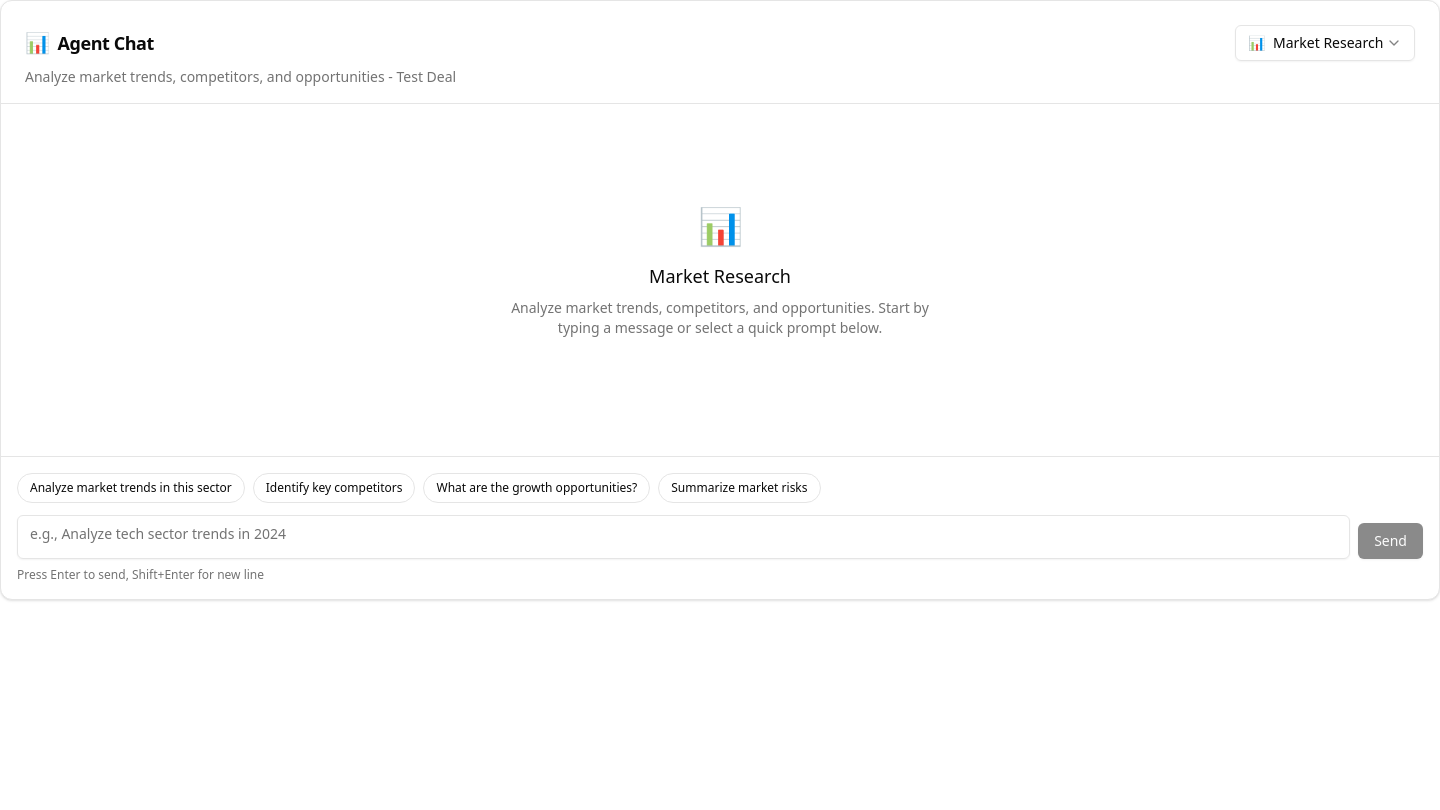
AgentChat › changes quick prompts when agent type changes
// Open agent type selector
Click the dropdown.
click(1325, 43)  # box [1235,25,1415,61]
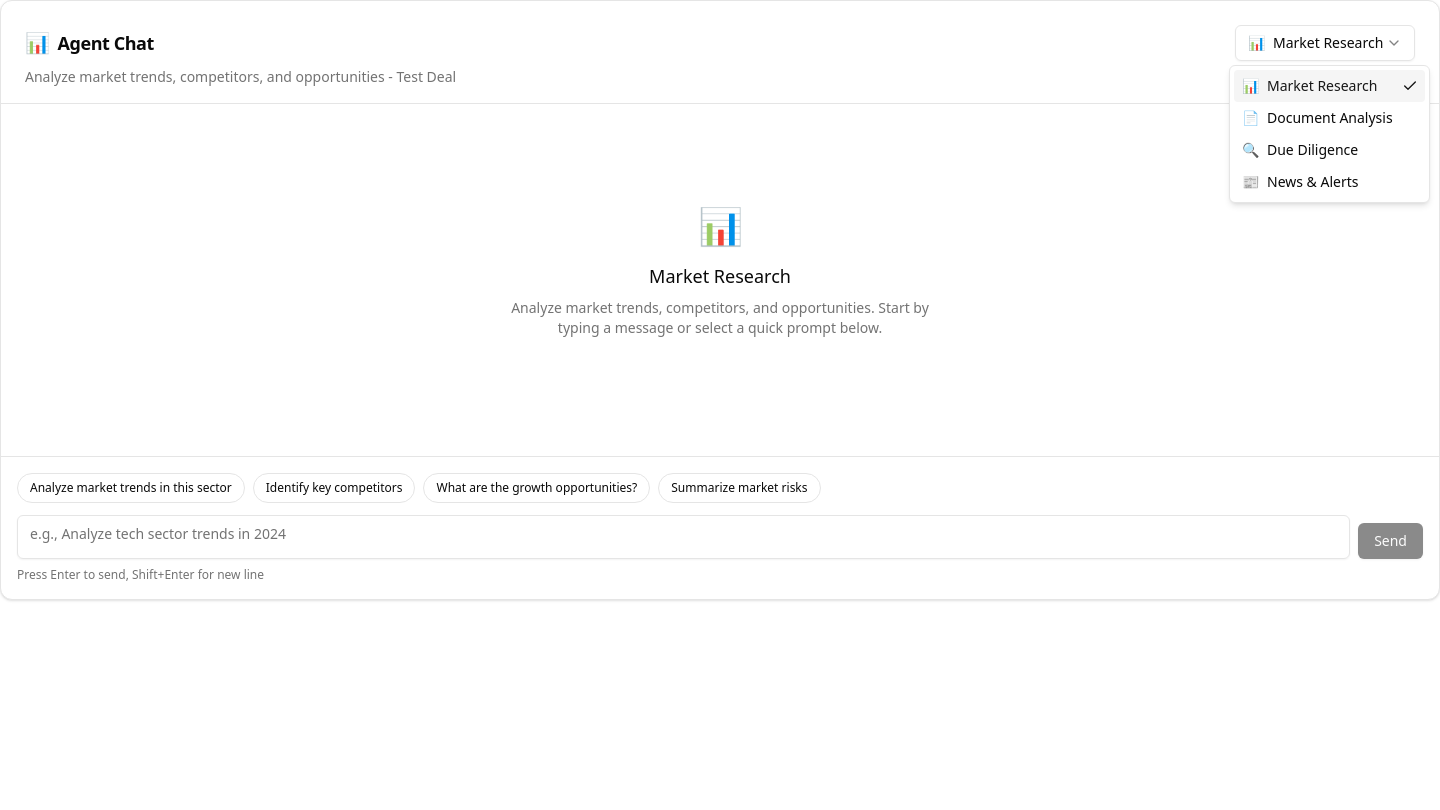
Expected: the text "Due Diligence" is shown, [1267,140,1358,159]
Click the option "🔍 Due Diligence".
click(1300, 150)  # box [1242,140,1358,159]
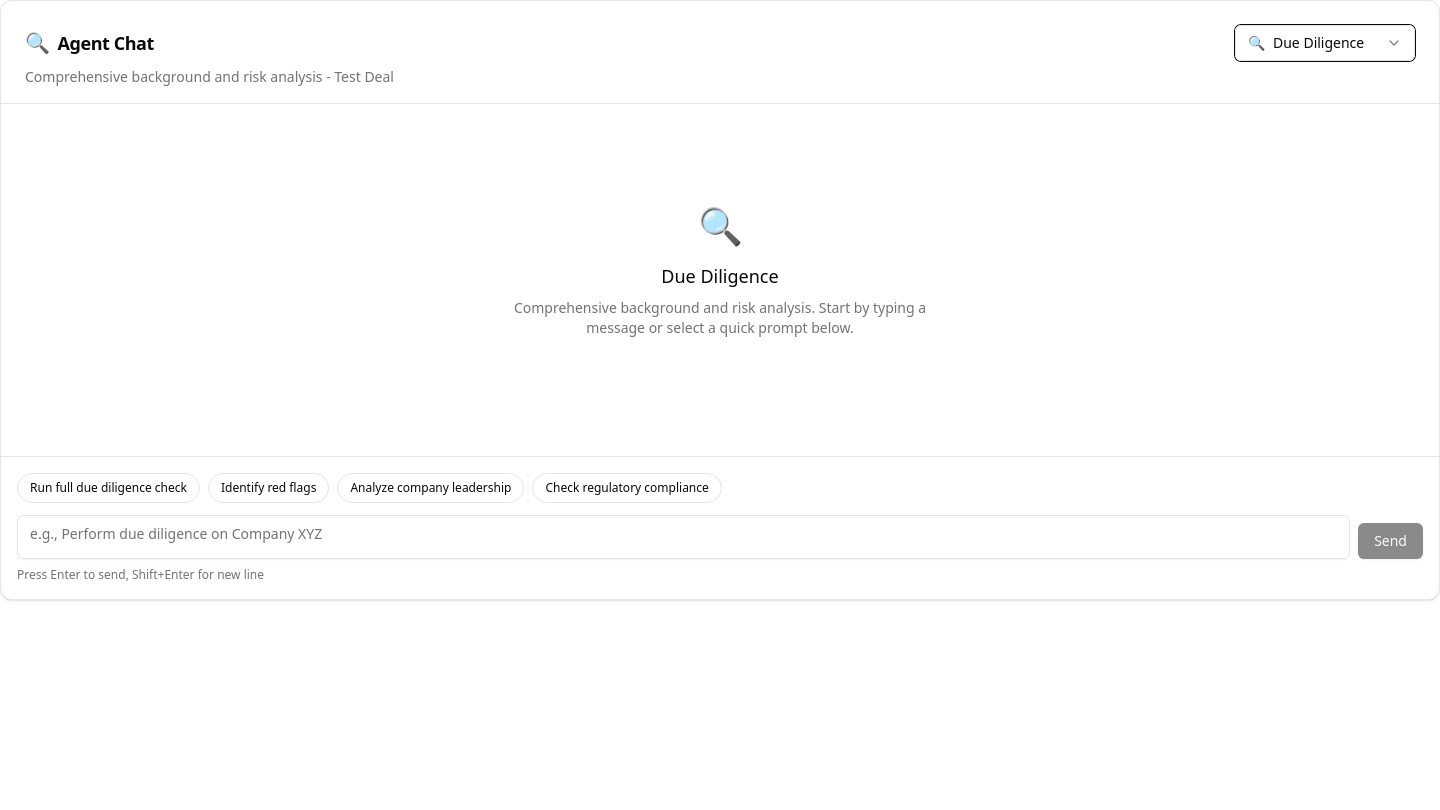
Expected: the button "Run full due diligence check" is shown, [17,473,200,503]
Expected: the button "Identify red flags" is shown, [208,473,330,503]
